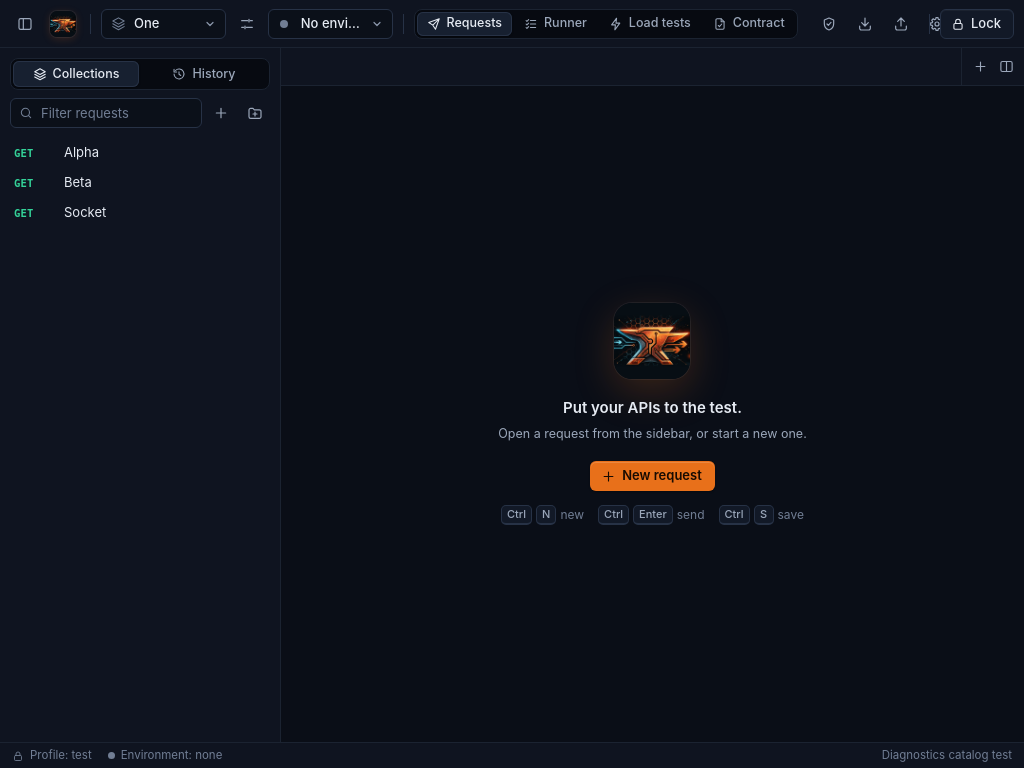
session controls › filters queued messages after execution ID reuse across same epoch
Expected: the list item "GET Alpha" is shown, [14,144,99,160]
Click the list item "GET Socket".
click(85, 212)  # box [14,204,106,220]
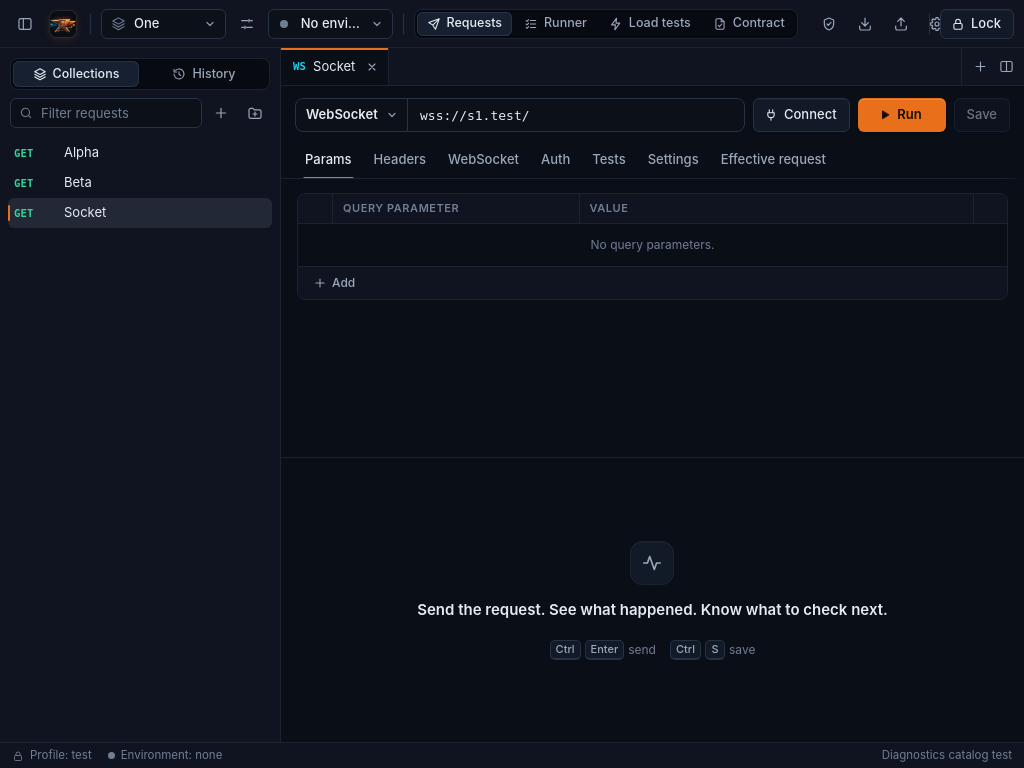
Result: the tab "WS Socket" is shown at [281,48,389,85]
Click the button "Connect".
click(801, 115)  # box [753,98,850,132]
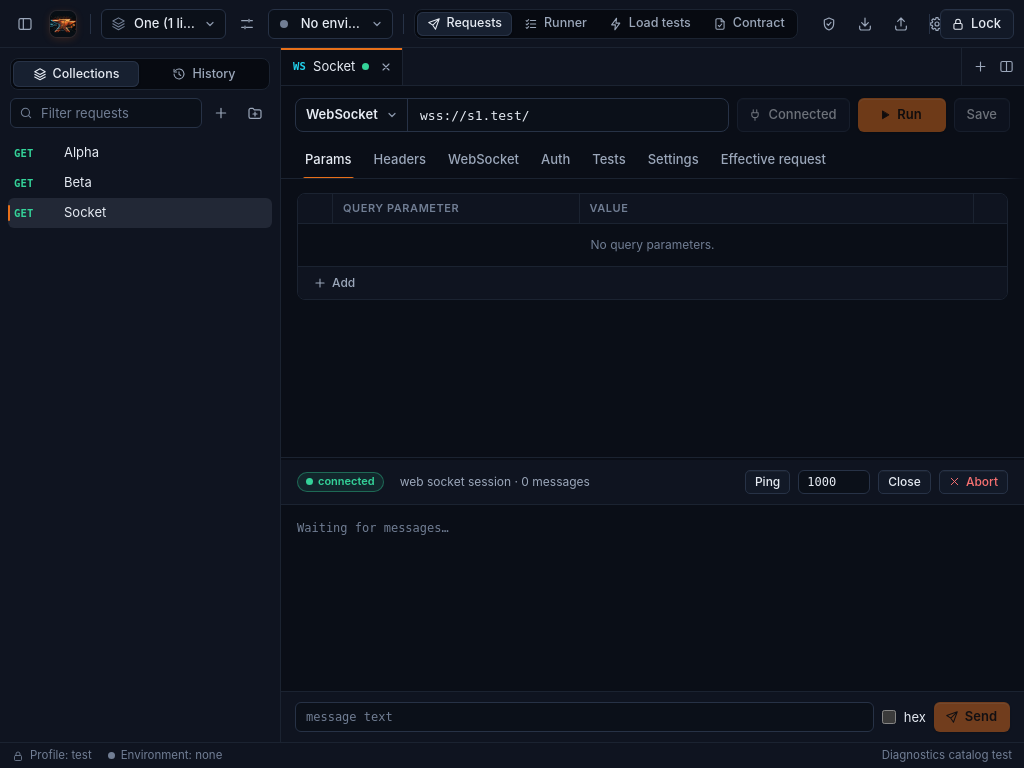
Click the button named "Close Socket".
click(386, 66)  # box [376,56,396,76]
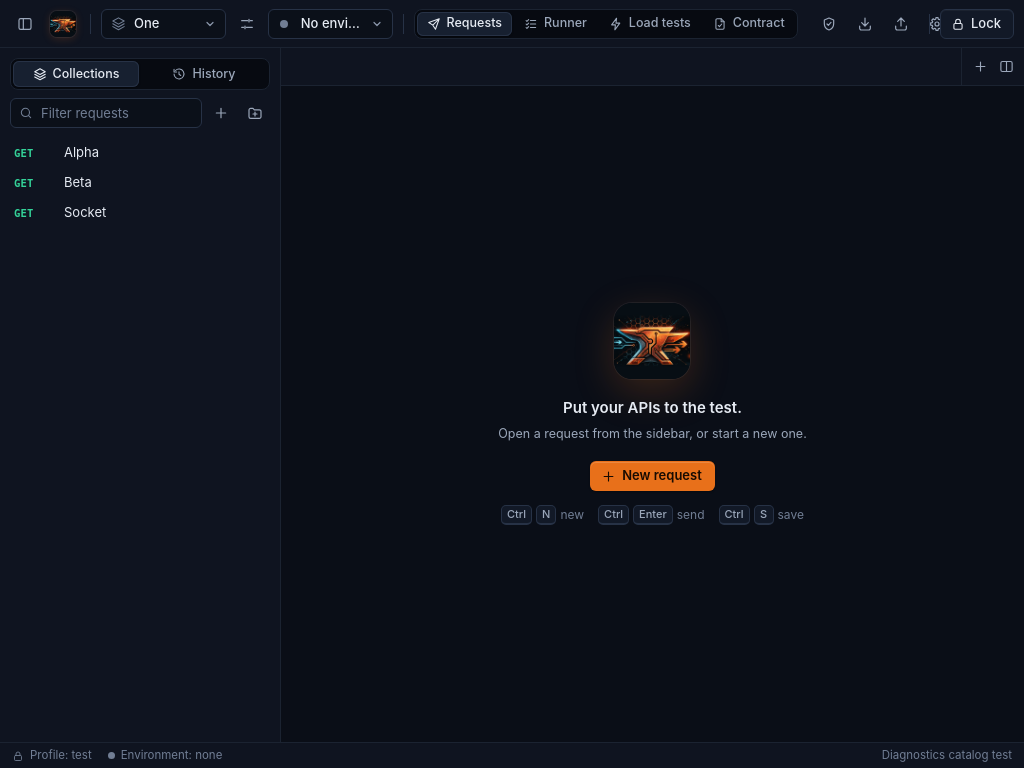
Click the list item "GET Socket".
click(85, 212)  # box [14,204,106,220]
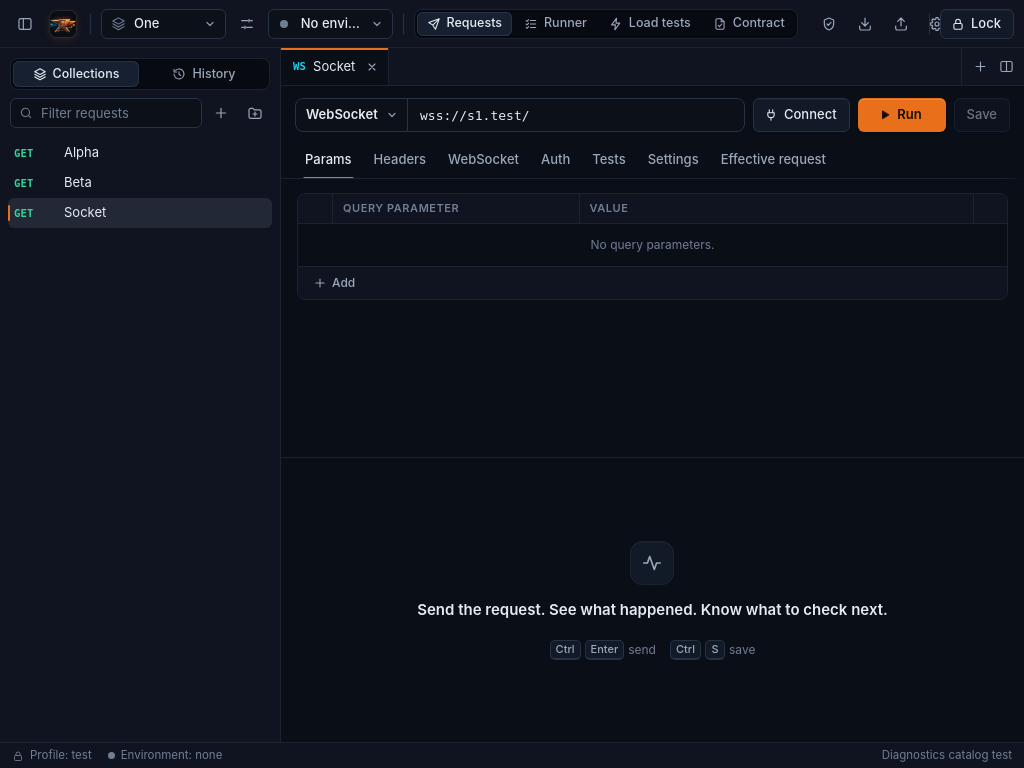
Result: the tab "WS Socket" is shown at [281,48,389,85]
Click the button "Connect".
click(801, 115)  # box [753,98,850,132]
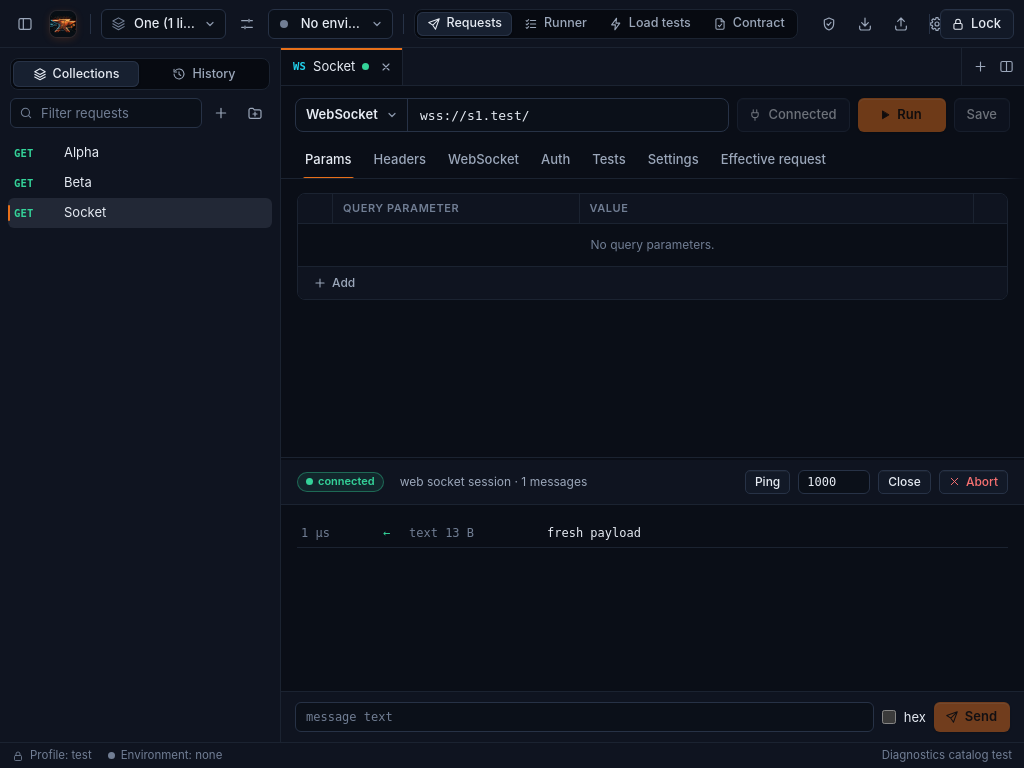
Result: the text "fresh payload" is shown at [547,526,641,540]
Result: the text "web socket session · 1 messages" is shown at [400,472,587,490]
Result: the button "Abort" is shown at [939,470,1008,494]
